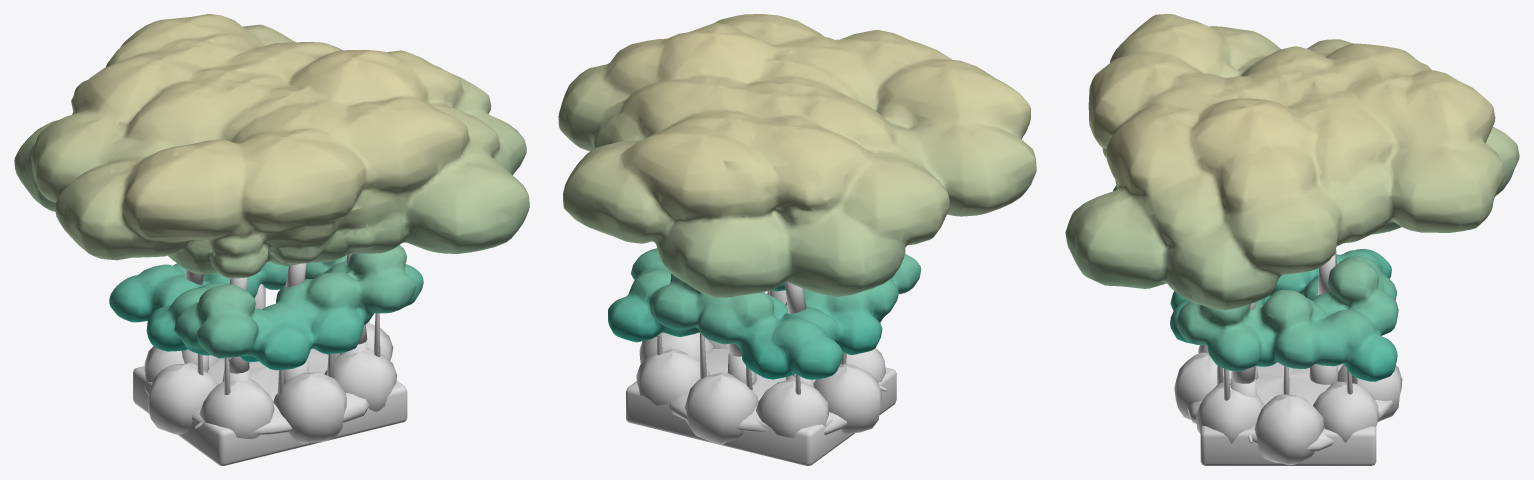
The model's file is beech_copse_1.glb.
The picture shows the model from 3 angles, left to right: view 1: azimuth 30°, elevation 25°; view 2: azimuth 150°, elevation 25°; view 3: azimuth 270°, elevation 25°; orthographic projection. The views are drawn at different scales.
Visible parts, largest first — view 1: beech_copse_1_Leaves, beech_copse_1_Bark, beech_copse_1_UpperBranches; view 2: beech_copse_1_Leaves, beech_copse_1_Bark, beech_copse_1_UpperBranches; view 3: beech_copse_1_Leaves, beech_copse_1_Bark, beech_copse_1_UpperBranches.
Boxes of the visible parts, x1=… form: beech_copse_1_Leaves: x1=14, y1=14, x2=529, y2=370; beech_copse_1_Bark: x1=133, y1=288, x2=407, y2=465; beech_copse_1_UpperBranches: x1=185, y1=254, x2=379, y2=361; beech_copse_1_Leaves: x1=558, y1=14, x2=1036, y2=379; beech_copse_1_Bark: x1=626, y1=290, x2=896, y2=465; beech_copse_1_UpperBranches: x1=700, y1=282, x2=806, y2=338; beech_copse_1_Leaves: x1=1065, y1=14, x2=1519, y2=381; beech_copse_1_Bark: x1=1174, y1=345, x2=1402, y2=465; beech_copse_1_UpperBranches: x1=1250, y1=250, x2=1336, y2=366.
Size of the model in its own units: 20.43 by 15.25 by 18.09.
